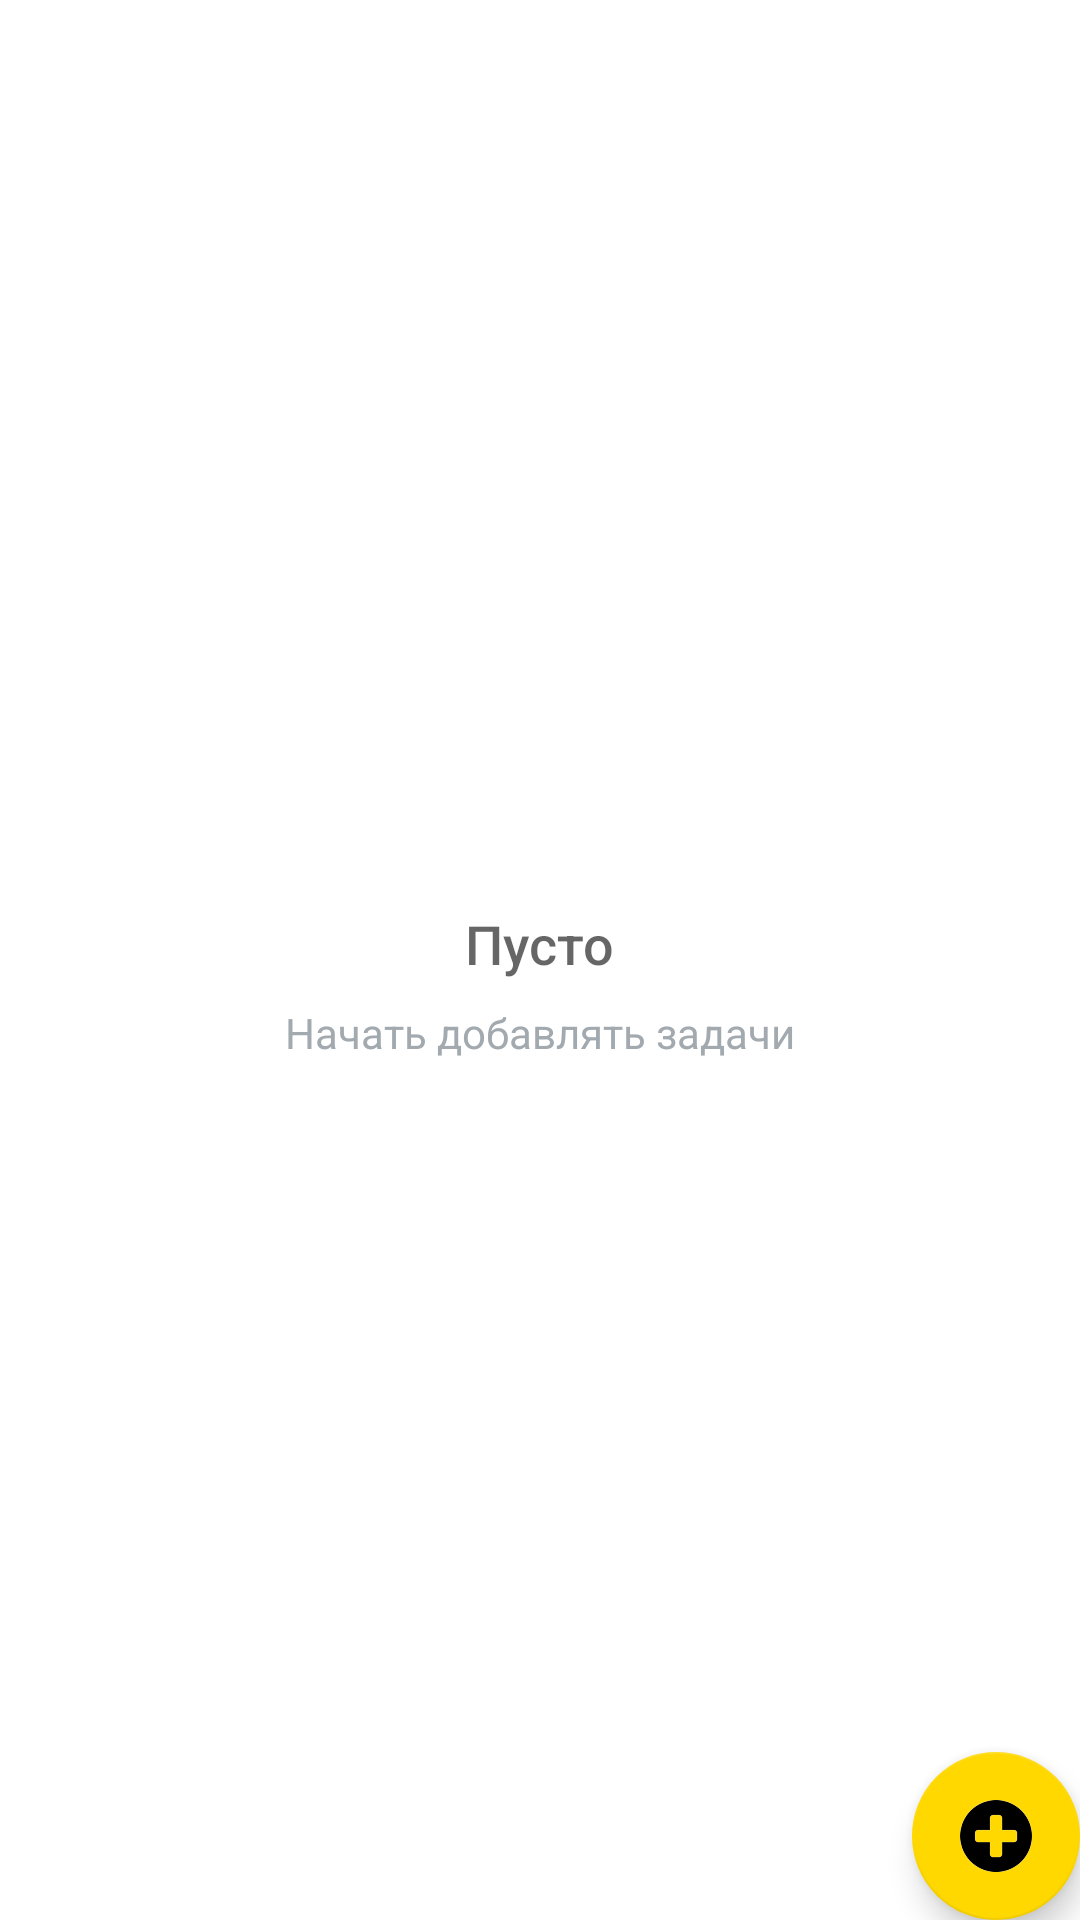

Named icons in this screenshot (1080 × 1920) and their centers, (x,y):
add task: (996,1836)
